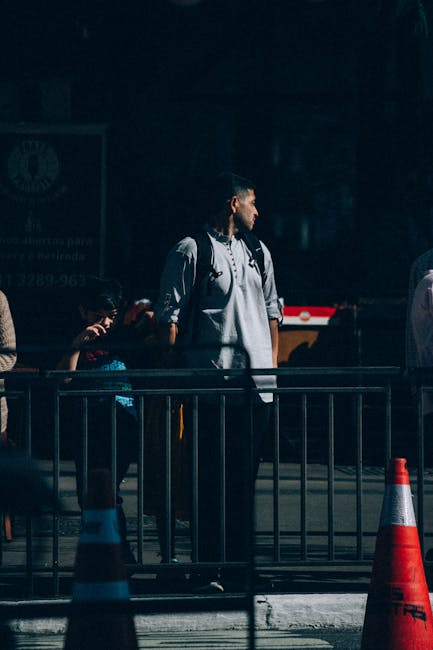traffic_cone: (359, 457, 433, 649)
